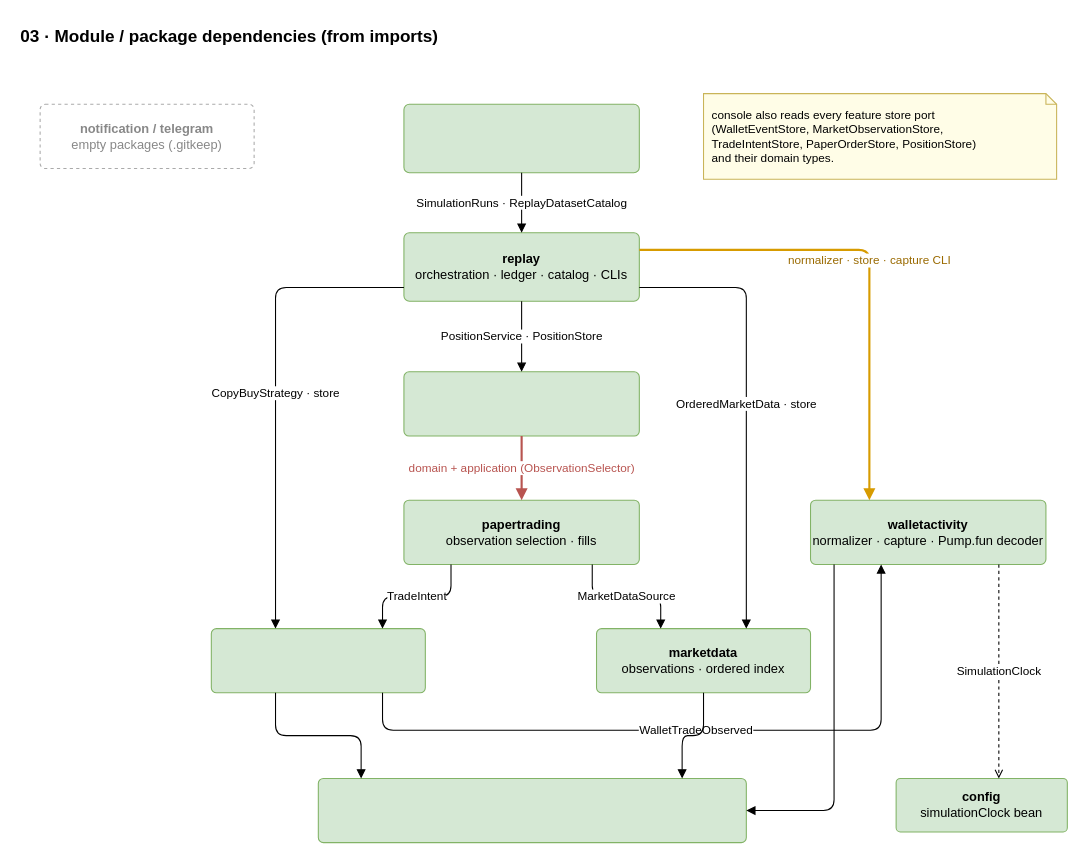
This 1086x861 diagram has some shape labels left out. The shapes that lost their labels are listed below. From the top down, each one's centre as x and y in pixels, then its label:
At (521,138): "console REST adapters · read models · probe".
At (521,403): "portfolio positions · exits · P&L".
At (317,660): "strategy SimulationConfig · CopyBuyStrategy".
At (531,810): "common Slot · MintAddress · TokenAmount · DecimalPolicy · ReplayLimits".
